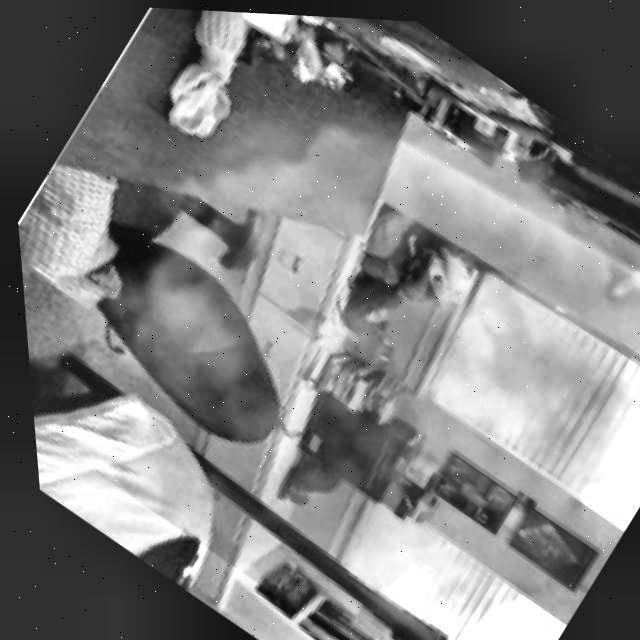Smoke: (22, 10, 640, 640)
